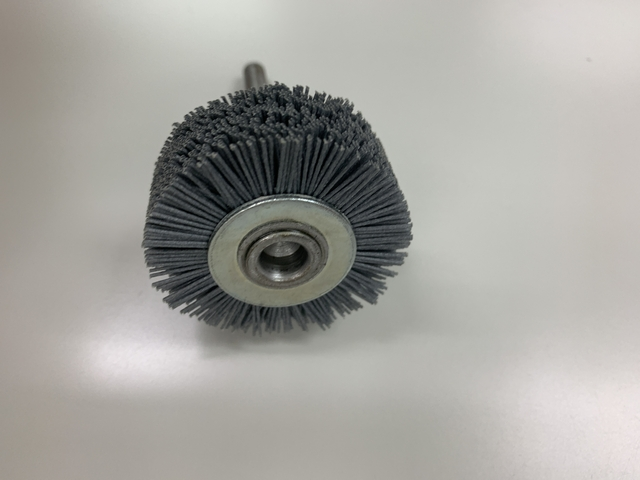Wheel Brush: (145, 52, 408, 343), (153, 56, 414, 331)
